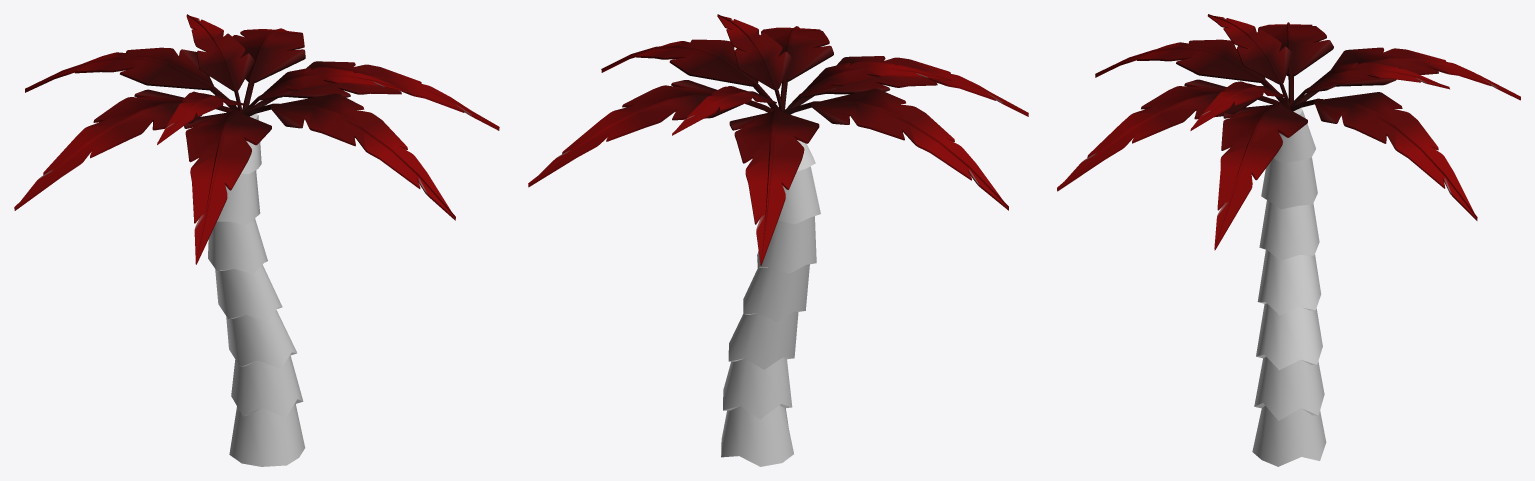
Rendered from PalmTree.fbx.
The picture shows the model from 3 angles, left to right: view 1: azimuth 30°, elevation 25°; view 2: azimuth 150°, elevation 25°; view 3: azimuth 270°, elevation 25°; orthographic projection. The views are drawn at different scales.
Parts seen in each view (by area): view 1: PalmTree_Leaf_LOD0, PalmTree_Trunk_LOD0; view 2: PalmTree_Leaf_LOD0, PalmTree_Trunk_LOD0; view 3: PalmTree_Leaf_LOD0, PalmTree_Trunk_LOD0.
Part boxes in pixels (x1,y1,x2,y2): PalmTree_Leaf_LOD0: (14, 14, 499, 264); PalmTree_Trunk_LOD0: (208, 114, 305, 466); PalmTree_Leaf_LOD0: (528, 14, 1028, 265); PalmTree_Trunk_LOD0: (721, 109, 820, 466); PalmTree_Leaf_LOD0: (1057, 14, 1520, 250); PalmTree_Trunk_LOD0: (1252, 108, 1326, 466).
Size of what is drawn, in the model's own units: 2.31 by 1.92 by 2.15.
